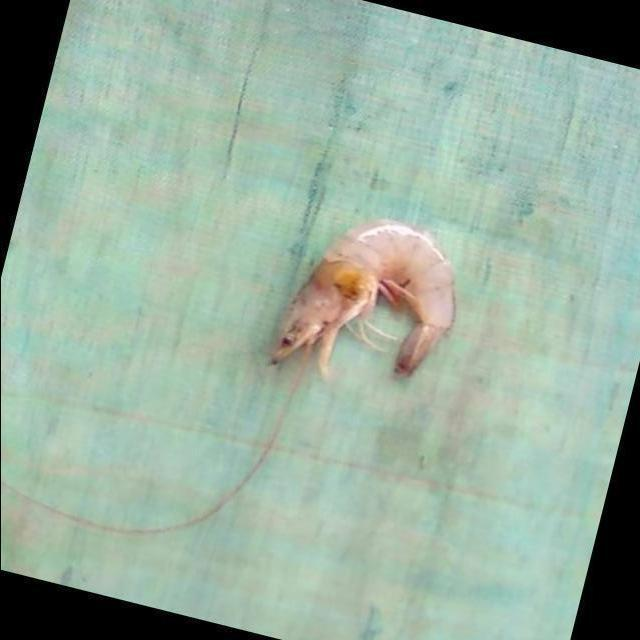shrimp: (271, 220, 455, 377)
